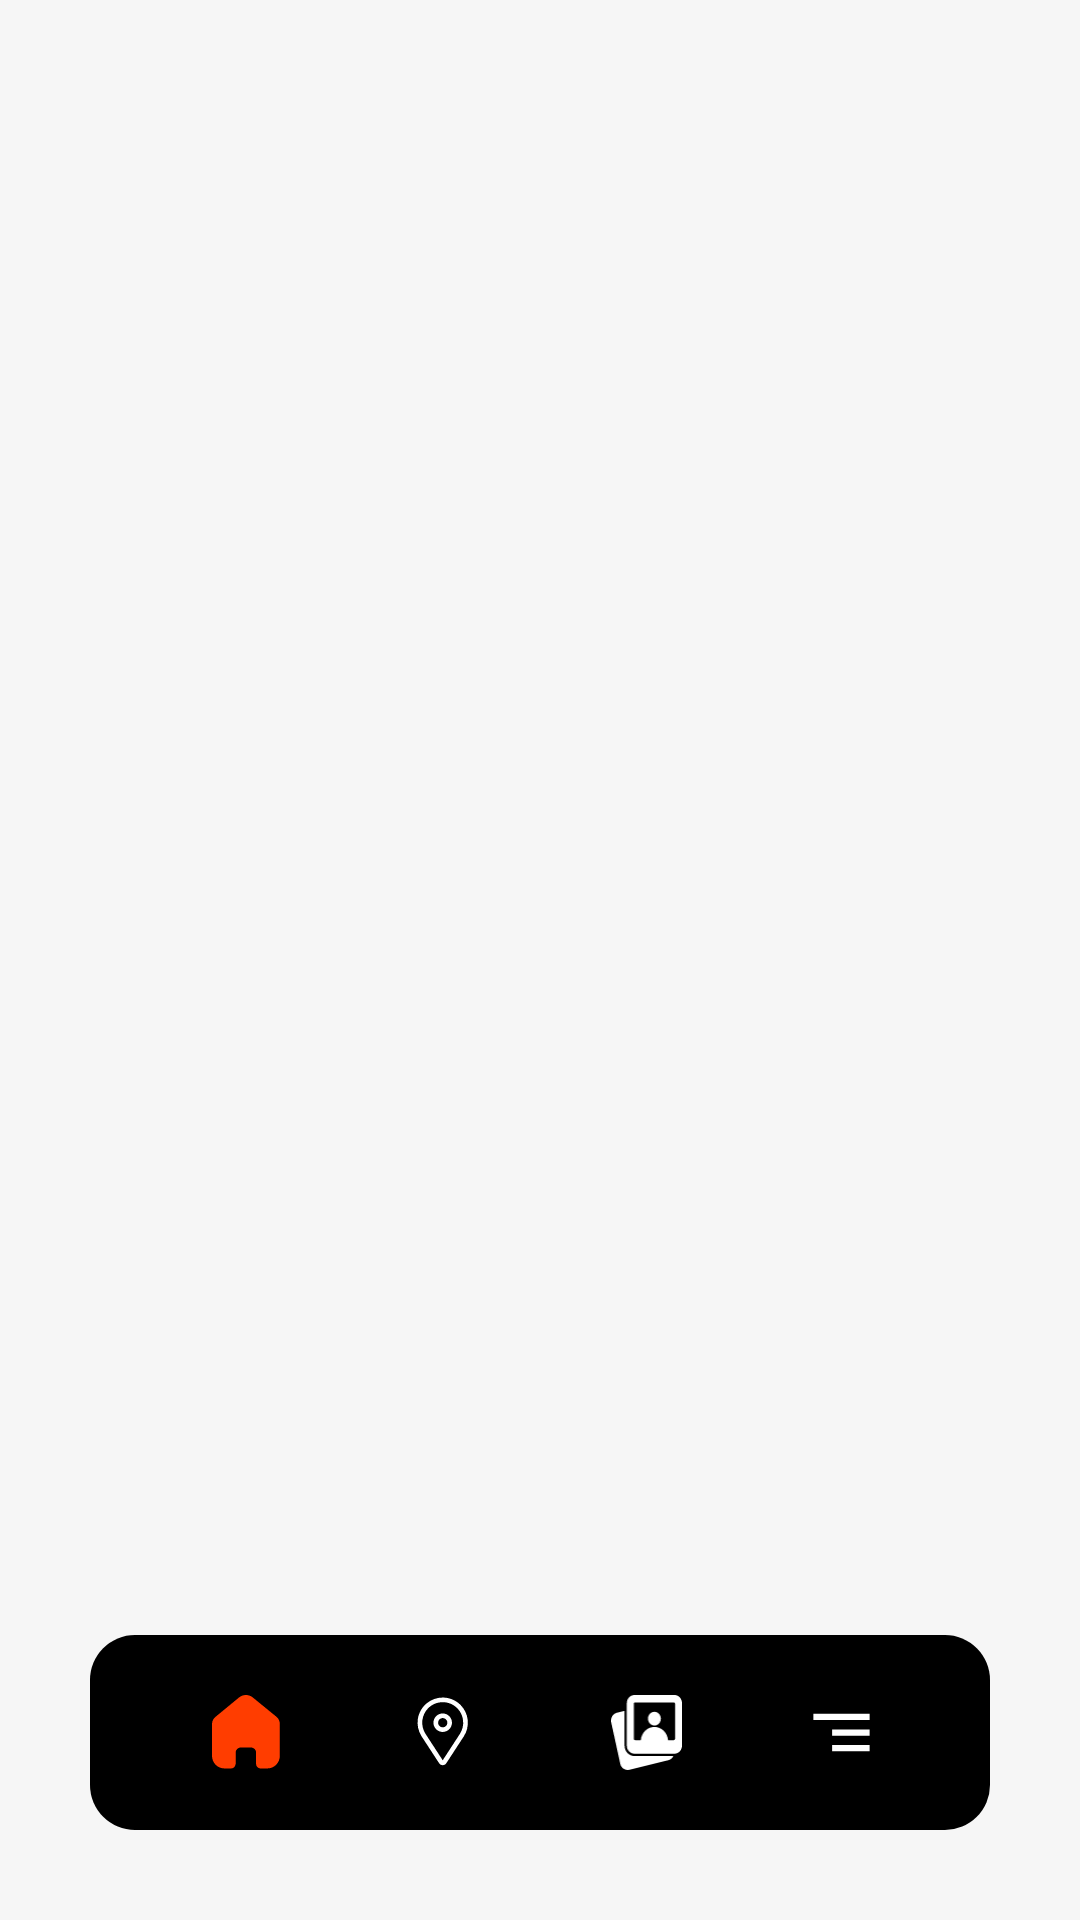

Icon bounding boxes for this 1080w x 1920h phone screenshot, format (x1, y1, x2, y2):
albums: (611, 1695, 682, 1770)
home: (212, 1695, 280, 1769)
location pin: (417, 1697, 468, 1766)
segment: (813, 1713, 870, 1752)
